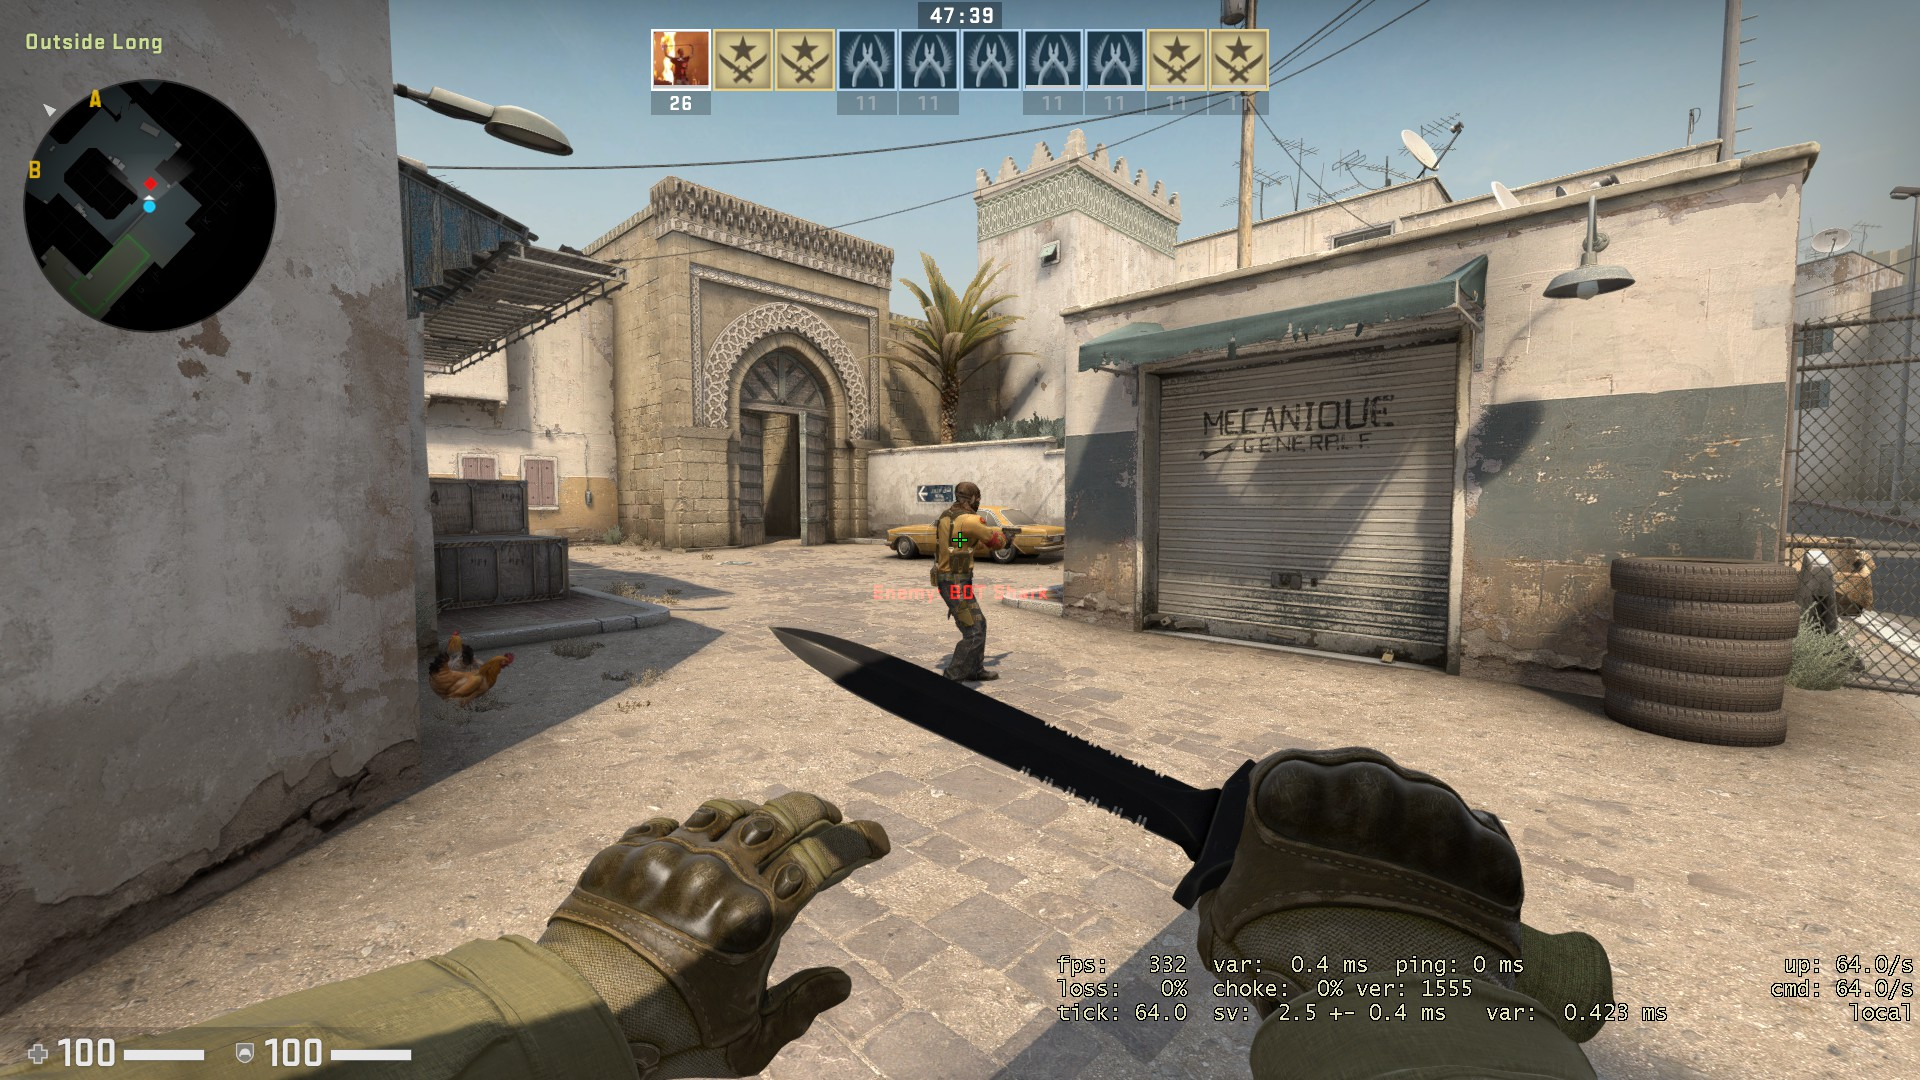player: (925, 477, 1026, 685)
